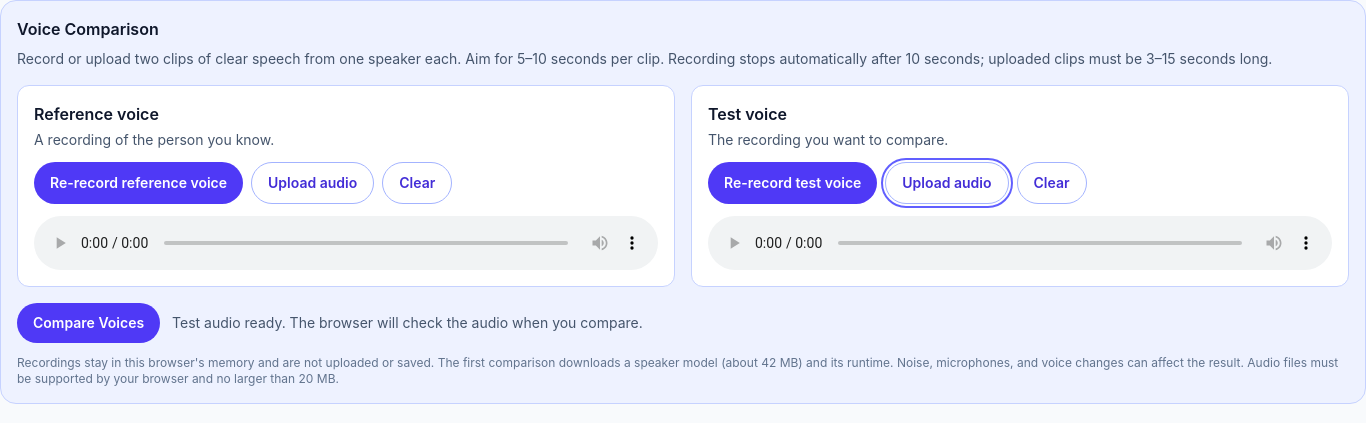
Test: cancels comparison and ignores late progress and results
Earlier steps of the test are not shown.
Later steps or results of the test are not shown.
Click the button "Compare Voices" at x=89, y=323, box [17,303,160,343]
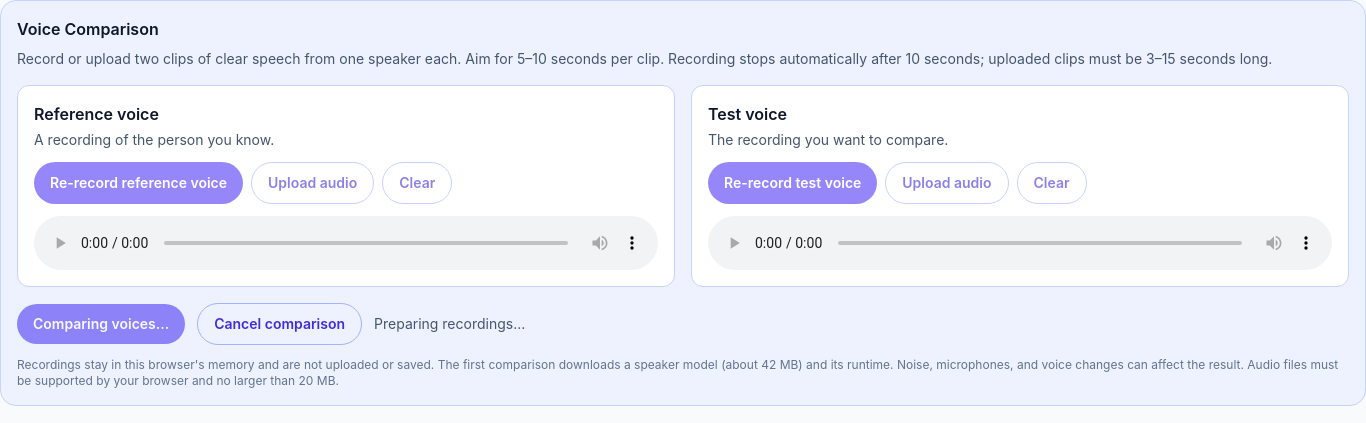
Result: the button "Comparing voices..." is disabled at [17,304,185,344]
